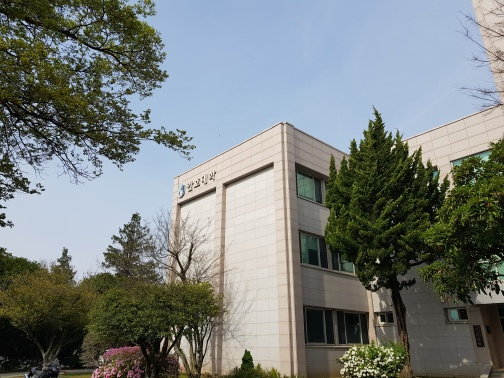College of Nursing: (150, 79, 499, 365), (168, 169, 222, 202)
